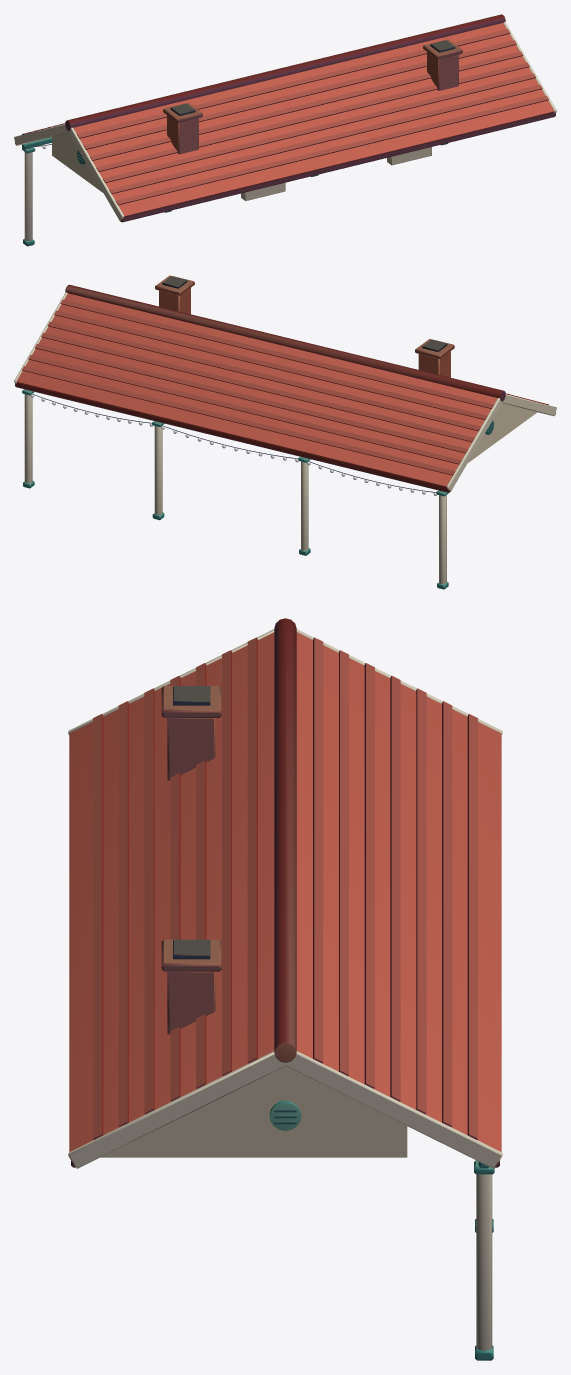
Rendered from RoomRoof.fbx.
3 views of the same model, one above another, from view 1: azimuth 30°, elevation 25°; view 2: azimuth 150°, elevation 25°; view 3: azimuth 270°, elevation 25° (orthographic). The views are drawn at different scales.
Parts seen in each view (by area): view 1: SM_Bld_RoomRoof_Roof, SM_Bld_RoomRoof_Trim, SM_Bld_RoomRoof_Walls; view 2: SM_Bld_RoomRoof_Roof, SM_Bld_RoomRoof_Trim, SM_Bld_RoomRoof_Walls, SM_Bld_RoomRoof_Glow; view 3: SM_Bld_RoomRoof_Roof, SM_Bld_RoomRoof_Walls, SM_Bld_RoomRoof_Trim.
Part boxes in pixels (<box>): SM_Bld_RoomRoof_Roof: <box>15,14,555,222</box>; SM_Bld_RoomRoof_Trim: <box>14,22,556,246</box>; SM_Bld_RoomRoof_Walls: <box>52,133,431,200</box>; SM_Bld_RoomRoof_Roof: <box>15,275,555,492</box>; SM_Bld_RoomRoof_Trim: <box>14,292,556,589</box>; SM_Bld_RoomRoof_Walls: <box>467,403,537,463</box>; SM_Bld_RoomRoof_Glow: <box>30,394,436,495</box>; SM_Bld_RoomRoof_Roof: <box>69,618,501,1167</box>; SM_Bld_RoomRoof_Walls: <box>100,1066,407,1157</box>; SM_Bld_RoomRoof_Trim: <box>68,629,502,1360</box>.
Size of the model in its own units: 53.6 by 19.95 by 23.17.
